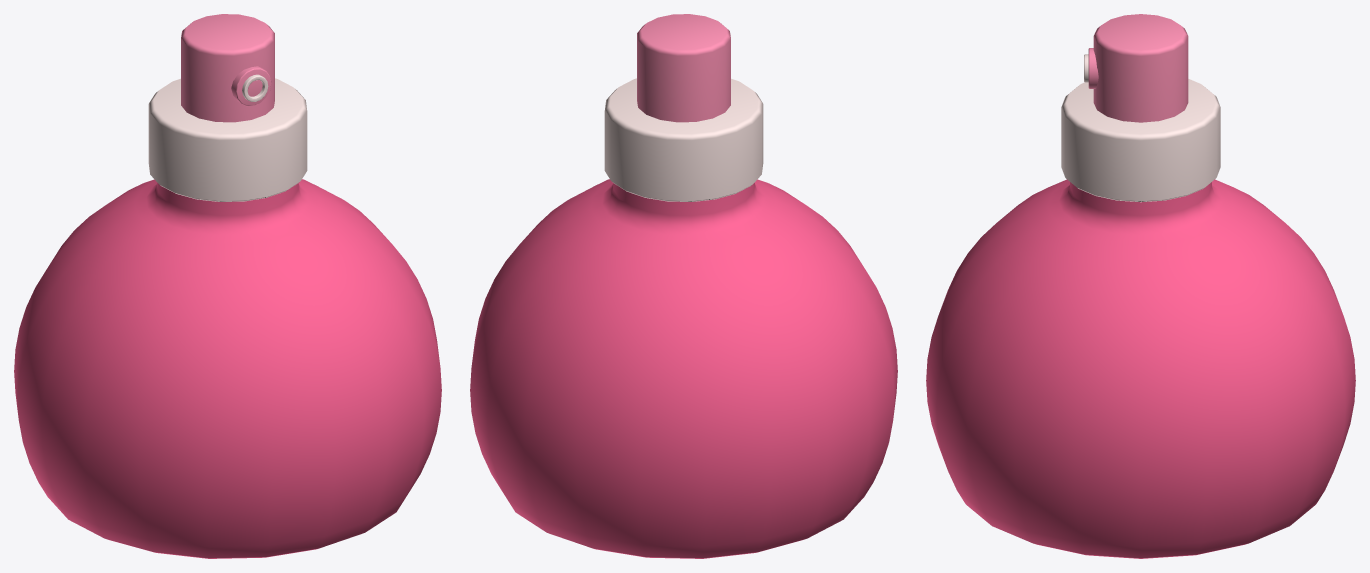
Rendered from Store_17_Perfume_Bottle_1.glb.
3 views of the same model, side by side, from view 1: azimuth 30°, elevation 25°; view 2: azimuth 150°, elevation 25°; view 3: azimuth 270°, elevation 25° (orthographic).
Parts seen in each view (by area): view 1: Store_17_Perfume_Bottle_1; view 2: Store_17_Perfume_Bottle_1; view 3: Store_17_Perfume_Bottle_1.
Part boxes in pixels (x1,y1,x2,y2): Store_17_Perfume_Bottle_1: [14, 14, 441, 558]; Store_17_Perfume_Bottle_1: [470, 14, 897, 558]; Store_17_Perfume_Bottle_1: [926, 14, 1355, 558].
Bounding box in the file's own units: 0.991 × 1.15 × 0.991.
1 material, 1 textured.
